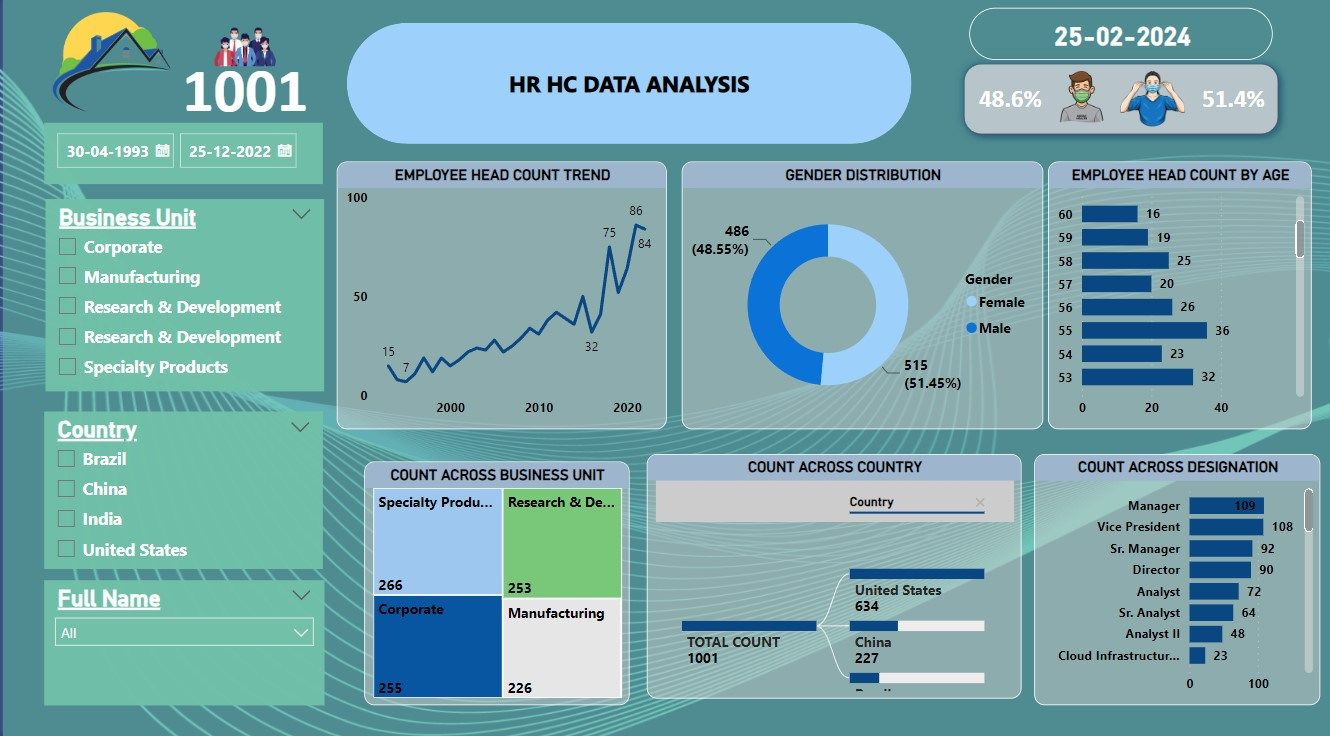

The dashboard page shown, as its layout file describes it:
{"tool":"powerbi","page":{"name":"HR ANALYSIS","canvas":[1280,720],"ordinal":0},"visuals":[{"type":"card","fields":{"Values":["Employee Data.Total_count"]},"box":[158,49.4,152,74.8],"z":0},{"type":"lineChart","title":"EMPLOYEE HEAD COUNT TREND","fields":{"Category":["Employee Data.Hire Date.Variation.Date Hierarchy.Year"],"Y":["CountNonNull(Employee Data.Employee ID)"]},"box":[322,161.6,318.4,258.1],"z":1000},{"type":"donutChart","title":"GENDER DISTRIBUTION","fields":{"Category":["Employee Data.Gender"],"Y":["CountNonNull(Employee Data.Employee ID)"]},"box":[654.9,161.6,348.5,258.1],"z":2000},{"type":"clusteredBarChart","title":"EMPLOYEE HEAD COUNT BY AGE","fields":{"Category":["Employee Data.Age"],"Y":["CountNonNull(Employee Data.Employee ID)"]},"box":[1008.2,161.6,254.5,258.1],"z":3000},{"type":"decompositionTreeVisual","title":"COUNT ACROSS COUNTRY","fields":{"Analyze":["CountNonNull(Employee Data.Country)"],"ExplainBy":["Employee Data.Country"]},"box":[621.1,443.8,361.8,236.4],"z":4000},{"type":"treemap","title":"COUNT ACROSS BUSINESS UNIT","fields":{"Group":["Employee Data.Business Unit"],"Values":["CountNonNull(Employee Data.Employee ID)"]},"box":[348.5,451.1,255.7,235.2],"z":5000},{"type":"clusteredBarChart","title":"COUNT ACROSS DESIGNATION","fields":{"Category":["Employee Data.Job Title"],"Y":["CountNonNull(Employee Data.Employee ID)"]},"box":[995,443.8,276.2,242.4],"z":6000},{"type":"shape","box":[917.8,57.9,322,86.8],"z":7000},{"type":"image","box":[1009.4,63.9,62.7,69.9],"z":8000},{"type":"image","box":[1072.2,66.3,73.6,69.9],"z":9000},{"type":"card","fields":{"Values":["Employee Data.Male_percent"]},"box":[917.8,67.5,108.5,67.5],"z":10000},{"type":"card","fields":{"Values":["Employee Data.Female_percent"]},"box":[1134.9,65.1,104.9,72.4],"z":11000},{"type":"image","box":[197.8,12.1,71.2,74.8],"z":12000},{"type":"shape","box":[331.7,27.7,545.1,117],"z":13000},{"type":"slicer","fields":{"Values":["Employee Data.Business Unit"]},"box":[41,197.8,268.9,185.7],"z":14000},{"type":"slicer","fields":{"Values":["Employee Data.Country"]},"box":[39.8,402.8,268.9,152],"z":15000},{"type":"slicer","fields":{"Values":["Employee Data.Hire Date"]},"box":[39.8,124.2,268.9,59.1],"z":16000},{"type":"slicer","fields":{"Values":["Employee Data.Full Name"]},"box":[39.8,565.6,270.2,120.6],"z":17000},{"type":"card","fields":{"Values":["Min(Query1.Date)"]},"box":[932.3,13.3,293.1,50.7],"z":18000},{"type":"image","box":[39.8,0,130.3,130.3],"z":18001}]}

Visuals, with their boxes in screenshot pixels (x1, y1, x2, y2), scaled from the page's 1280x720 canvas onto the 1330x736 screenshot:
card - Employee Data.Total_count: (x1=164, y1=50, x2=322, y2=127)
"EMPLOYEE HEAD COUNT TREND" lineChart: (x1=335, y1=165, x2=665, y2=429)
"GENDER DISTRIBUTION" donutChart: (x1=680, y1=165, x2=1043, y2=429)
"EMPLOYEE HEAD COUNT BY AGE" clusteredBarChart: (x1=1048, y1=165, x2=1312, y2=429)
"COUNT ACROSS COUNTRY" decompositionTreeVisual: (x1=645, y1=454, x2=1021, y2=695)
"COUNT ACROSS BUSINESS UNIT" treemap: (x1=362, y1=461, x2=628, y2=702)
"COUNT ACROSS DESIGNATION" clusteredBarChart: (x1=1034, y1=454, x2=1321, y2=701)
shape: (x1=954, y1=59, x2=1288, y2=148)
image: (x1=1049, y1=65, x2=1114, y2=137)
image: (x1=1114, y1=68, x2=1191, y2=139)
card - Employee Data.Male_percent: (x1=954, y1=69, x2=1066, y2=138)
card - Employee Data.Female_percent: (x1=1179, y1=67, x2=1288, y2=141)
image: (x1=206, y1=12, x2=280, y2=89)
shape: (x1=345, y1=28, x2=911, y2=148)
slicer - Employee Data.Business Unit: (x1=43, y1=202, x2=322, y2=392)
slicer - Employee Data.Country: (x1=41, y1=412, x2=321, y2=567)
slicer - Employee Data.Hire Date: (x1=41, y1=127, x2=321, y2=187)
slicer - Employee Data.Full Name: (x1=41, y1=578, x2=322, y2=701)
card - Min(Query1.Date): (x1=969, y1=14, x2=1273, y2=65)
image: (x1=41, y1=0, x2=177, y2=133)
